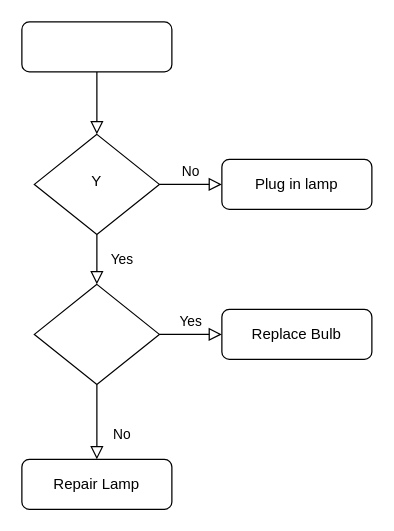
Some shapes in this 394 by 531 pixel diagram are drawn without their labels. The centre of each missing label's shape, as x and y in pixels:
Bulb burned out?: the point at 96,333
第一个图: the point at 96,46
